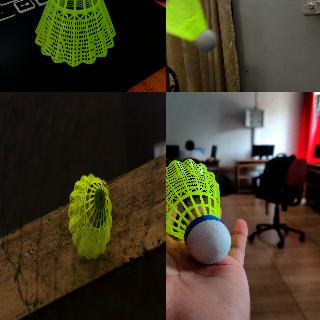shuttlecock: (166, 158, 231, 266), (37, 0, 116, 66), (68, 173, 111, 259), (166, 0, 218, 51)
